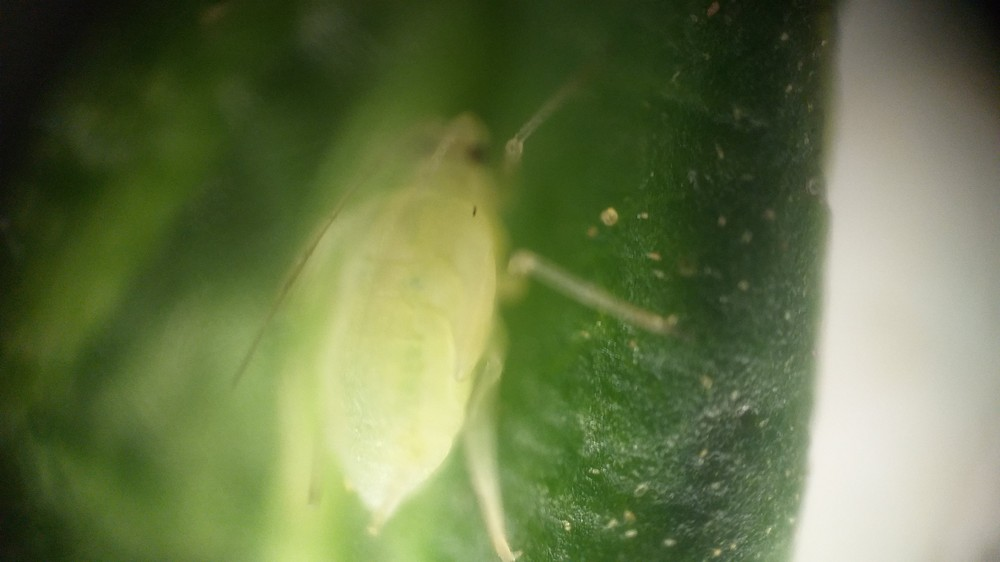Pulgon: (193, 60, 707, 554)
